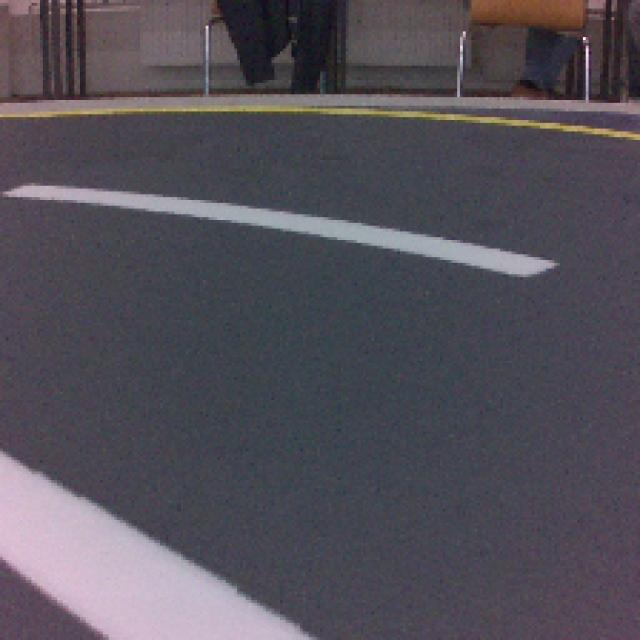Pedestrian crosswalk: (3, 452, 314, 640)
